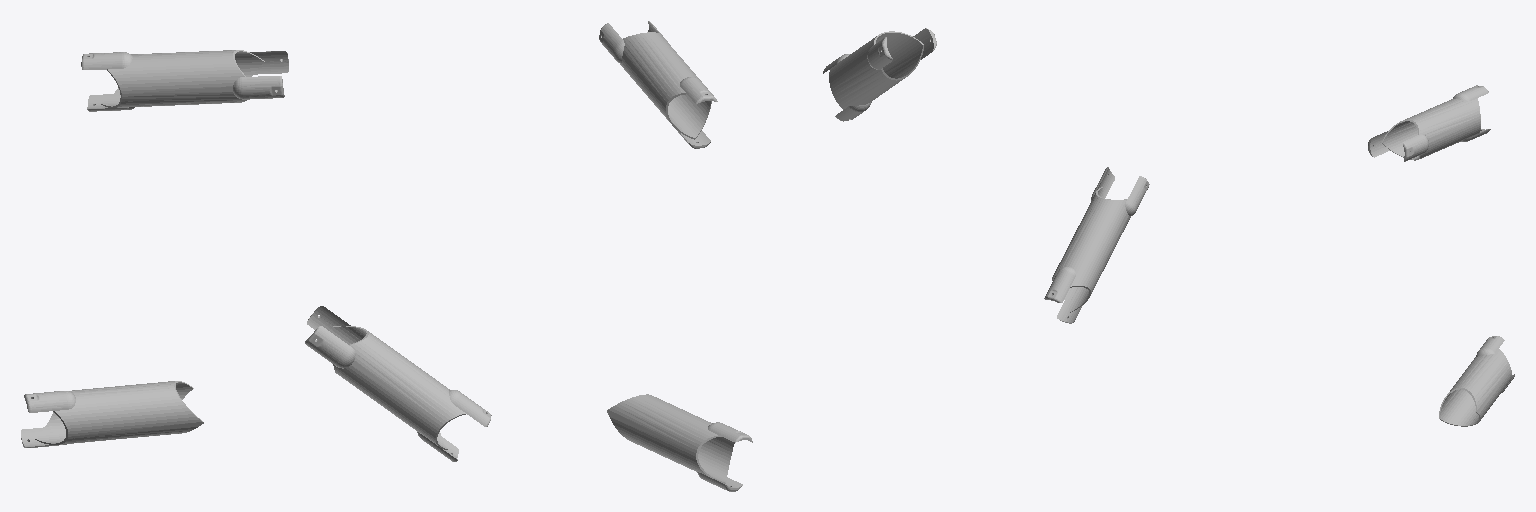
URDF robot description (ORIGINAL_3_DOF_ARM.URDF):
<?xml version="1.0" encoding="utf-8"?>
<!-- This URDF was automatically created by SolidWorks to URDF Exporter! Originally created by Stephen Brawner (brawner@gmail.com) 
     Commit Version: 1.6.1-13-g25da24a-dirty  Build Version: 1.6.9659.2150
     For more information, please see http://wiki.ros.org/sw_urdf_exporter -->
<robot
  name="ORIGINAL_3_DOF_ARM.URDF">
  <link
    name="base_link">
    <inertial>
      <origin
        xyz="0.0085719 0.027789 0.037988"
        rpy="0 0 0" />
      <mass
        value="0.045046" />
      <inertia
        ixx="3.7376E-05"
        ixy="7.3718E-37"
        ixz="-3.6734E-37"
        iyy="3.7376E-05"
        iyz="3.2169E-21"
        izz="7.3304E-05" />
    </inertial>
    <visual>
      <origin
        xyz="0 0 0"
        rpy="0 0 0" />
      <geometry>
        <mesh
          filename="package://ORIGINAL_3_DOF_ARM.URDF/meshes/base_link.STL" />
      </geometry>
      <material
        name="">
        <color
          rgba="0 0 1 0.5" />
      </material>
    </visual>
    <collision>
      <origin
        xyz="0 0 0"
        rpy="0 0 0" />
      <geometry>
        <mesh
          filename="package://ORIGINAL_3_DOF_ARM.URDF/meshes/base_link.STL" />
      </geometry>
    </collision>
  </link>
  <link
    name="link1">
    <inertial>
      <origin
        xyz="0.11076 -8.4785E-12 8.4784E-12"
        rpy="0 0 0" />
      <mass
        value="0.04833" />
      <inertia
        ixx="2.3405E-05"
        ixy="-9.1247E-15"
        ixz="-9.1247E-15"
        iyy="6.7625E-05"
        iyz="-1.6403E-11"
        izz="6.7976E-05" />
    </inertial>
    <visual>
      <origin
        xyz="0 0 0"
        rpy="0 0 0" />
      <geometry>
        <mesh
          filename="package://ORIGINAL_3_DOF_ARM.URDF/meshes/link1.STL" />
      </geometry>
      <material
        name="">
        <color
          rgba="0.75294 0.75294 0.75294 1" />
      </material>
    </visual>
    <collision>
      <origin
        xyz="0 0 0"
        rpy="0 0 0" />
      <geometry>
        <mesh
          filename="package://ORIGINAL_3_DOF_ARM.URDF/meshes/link1.STL" />
      </geometry>
    </collision>
  </link>
  <joint
    name="joint1"
    type="continuous">
    <origin
      xyz="0.00857185004749453 0.027789077031409 0.0204145814676108"
      rpy="-1.8776081329983 -1.57079631189374 1.5707963267949" />
    <parent
      link="base_link" />
    <child
      link="link1" />
    <axis
      xyz="-1 0 0" />
    <safety_controller
      k_velocity="0" />
  </joint>
  <link
    name="link2">
    <inertial>
      <origin
        xyz="0.094341 5.752E-07 -9.7056E-07"
        rpy="0 0 0" />
      <mass
        value="0.058576" />
      <inertia
        ixx="2.3817E-05"
        ixy="9.642E-10"
        ixz="7.8779E-10"
        iyy="6.9715E-05"
        iyz="-1.9912E-09"
        izz="6.9712E-05" />
    </inertial>
    <visual>
      <origin
        xyz="0 0 0"
        rpy="0 0 0" />
      <geometry>
        <mesh
          filename="package://ORIGINAL_3_DOF_ARM.URDF/meshes/link2.STL" />
      </geometry>
      <material
        name="">
        <color
          rgba="0.75294 0.75294 0.75294 1" />
      </material>
    </visual>
    <collision>
      <origin
        xyz="0 0 0"
        rpy="0 0 0" />
      <geometry>
        <mesh
          filename="package://ORIGINAL_3_DOF_ARM.URDF/meshes/link2.STL" />
      </geometry>
    </collision>
  </link>
  <joint
    name="joint2"
    type="revolute">
    <origin
      xyz="0.181766743813069 0 0"
      rpy="-1.5707963267949 0 -1.7091290571648" />
    <parent
      link="link1" />
    <child
      link="link2" />
    <axis
      xyz="0 -1 0" />
    <limit
      lower="0"
      upper="0"
      effort="0"
      velocity="0" />
    <safety_controller
      k_velocity="0" />
  </joint>
  <link
    name="link3">
    <inertial>
      <origin
        xyz="0.094341 4.37E-07 -3.6115E-07"
        rpy="0 0 0" />
      <mass
        value="0.058576" />
      <inertia
        ixx="2.3817E-05"
        ixy="-8.3373E-12"
        ixz="-6.8056E-11"
        iyy="6.9719E-05"
        iyz="-3.888E-09"
        izz="6.9712E-05" />
    </inertial>
    <visual>
      <origin
        xyz="0 0 0"
        rpy="0 0 0" />
      <geometry>
        <mesh
          filename="package://ORIGINAL_3_DOF_ARM.URDF/meshes/link3.STL" />
      </geometry>
      <material
        name="">
        <color
          rgba="0.75294 0.75294 0.75294 1" />
      </material>
    </visual>
    <collision>
      <origin
        xyz="0 0 0"
        rpy="0 0 0" />
      <geometry>
        <mesh
          filename="package://ORIGINAL_3_DOF_ARM.URDF/meshes/link3.STL" />
      </geometry>
    </collision>
  </link>
  <joint
    name="joint3"
    type="revolute">
    <origin
      xyz="0.18176674381307 0 0"
      rpy="-1.5707963267949 0 -1.87964671311042" />
    <parent
      link="link2" />
    <child
      link="link3" />
    <axis
      xyz="0 -1 0" />
    <limit
      lower="0"
      upper="0"
      effort="0"
      velocity="0" />
    <safety_controller
      k_velocity="0" />
  </joint>
</robot>

--- Render facts (derived) ---
3 views of the same robot in one strip: view 1: azimuth 30°, elevation 25°; view 2: azimuth 150°, elevation 25°; view 3: azimuth 270°, elevation 25° (orthographic).
Model ORIGINAL_3_DOF_ARM.URDF with 4 links and 3 joints (2 revolute, 1 continuous), rooted at base_link, posed all joints at 0.
Visible links, largest first — view 1: link2, link3, link1; view 2: link1, link2, link3; view 3: link3, link2, link1.
Link boxes in pixels (left/top/right/bottom): link2: left=81, top=50, right=288, bottom=111; link3: left=305, top=306, right=491, bottom=461; link1: left=21, top=381, right=203, bottom=447; link1: left=607, top=394, right=752, bottom=491; link2: left=599, top=21, right=717, bottom=148; link3: left=823, top=28, right=936, bottom=121; link3: left=1044, top=167, right=1149, bottom=323; link2: left=1368, top=85, right=1490, bottom=161; link1: left=1439, top=336, right=1514, bottom=426.
Size in the robot's own frame: 0.2326 by 0.5642 by 0.4233 metres.
3 mesh visuals loaded from 4 distinct referenced files (3 binary STL); not drawn: 1 (reference not matched to a file when rendering).
